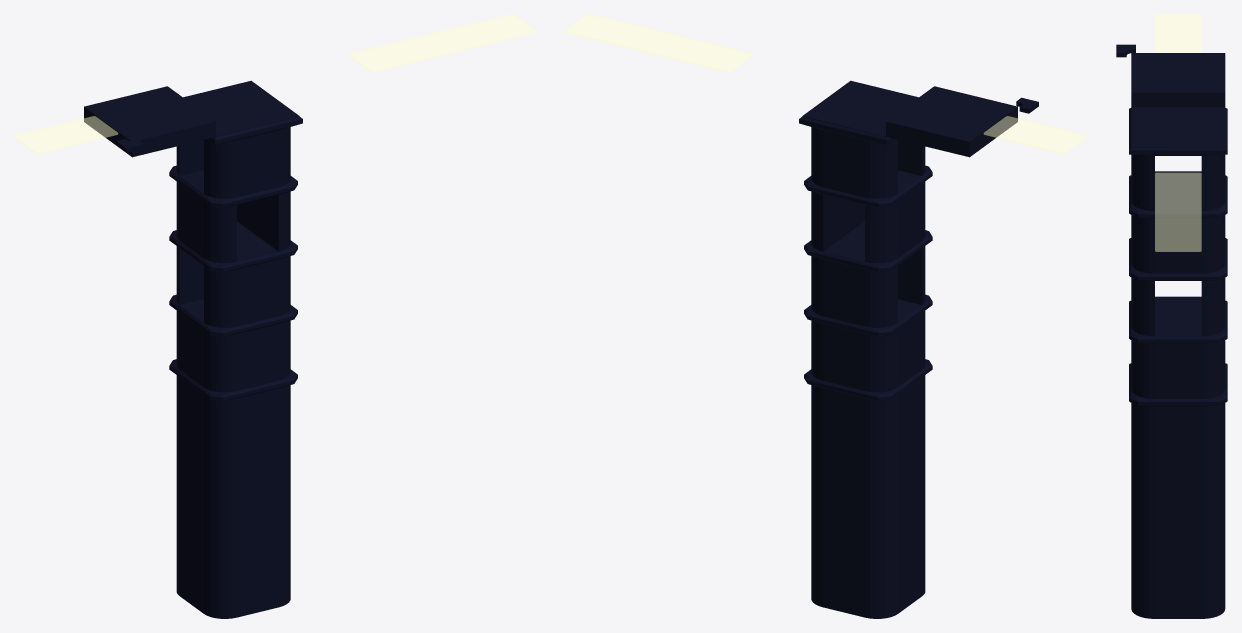
The model's file is Pillar.fbx.
3 views of the same model, side by side, from view 1: azimuth 30°, elevation 25°; view 2: azimuth 150°, elevation 25°; view 3: azimuth 270°, elevation 25° (orthographic). The views are drawn at different scales.
Visible parts, largest first — view 1: Floor.002, Floor, LeftBridge, RightBridge; view 2: Floor.002, Floor, LeftBridge, RightBridge; view 3: Floor.002, Floor, LeftBridge, RightBridge, Floor.001.
Part boxes in pixels (x1=…): Floor.002: x1=169, y1=80, x2=302, y2=618; Floor: x1=84, y1=86, x2=215, y2=157; LeftBridge: x1=349, y1=14, x2=536, y2=71; RightBridge: x1=14, y1=116, x2=117, y2=153; Floor.002: x1=799, y1=80, x2=932, y2=618; Floor: x1=886, y1=86, x2=1017, y2=157; LeftBridge: x1=565, y1=14, x2=752, y2=71; RightBridge: x1=984, y1=116, x2=1087, y2=153; Floor.002: x1=1129, y1=107, x2=1227, y2=618; Floor: x1=1131, y1=53, x2=1225, y2=107; LeftBridge: x1=1155, y1=173, x2=1201, y2=251; RightBridge: x1=1155, y1=14, x2=1201, y2=52; Floor.001: x1=1116, y1=44, x2=1135, y2=57.
Bounding box in the file's own units: 11950 × 11496 × 2369.
